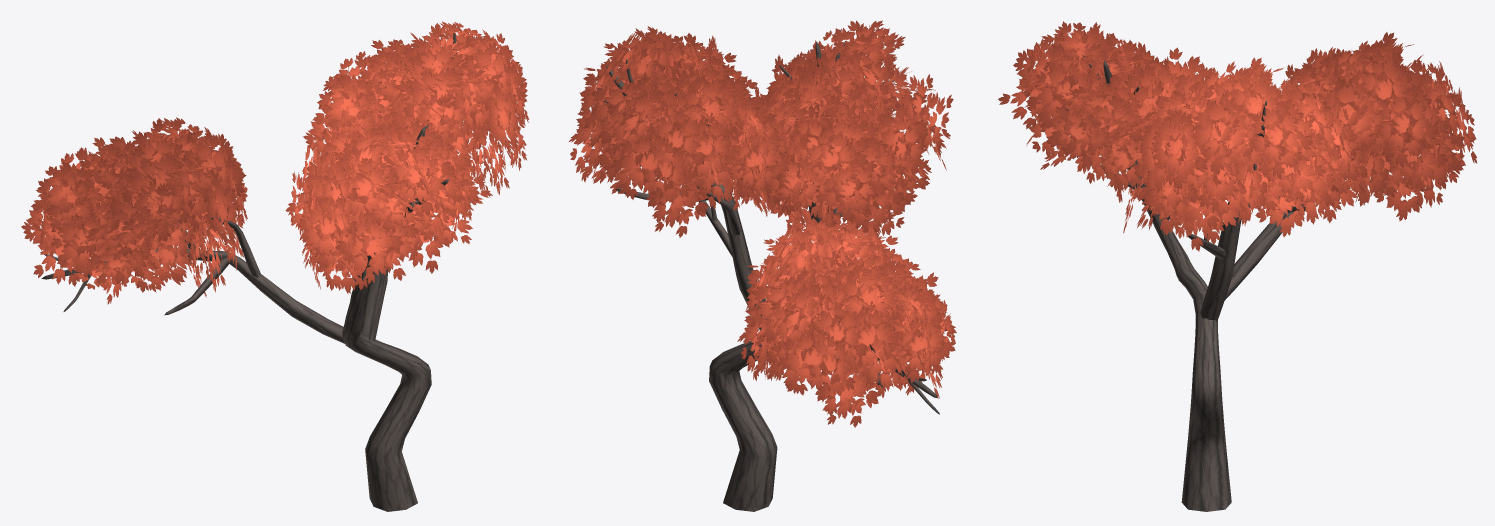
File: MapleTree_2.glb
3 renders of one model, left to right at view 1: azimuth 30°, elevation 25°; view 2: azimuth 150°, elevation 25°; view 3: azimuth 270°, elevation 25°, orthographic. The views are drawn at different scales.
Parts seen in each view (by area): view 1: MapleTree_2; view 2: MapleTree_2; view 3: MapleTree_2.
Part boxes in pixels (box(x1,y1,x2,y2)): MapleTree_2: box(21, 21, 529, 511); MapleTree_2: box(569, 20, 956, 511); MapleTree_2: box(998, 21, 1477, 511).
Size of the model in its own units: 6.7 by 6.71 by 6.24.
2 materials, 2 textured.
